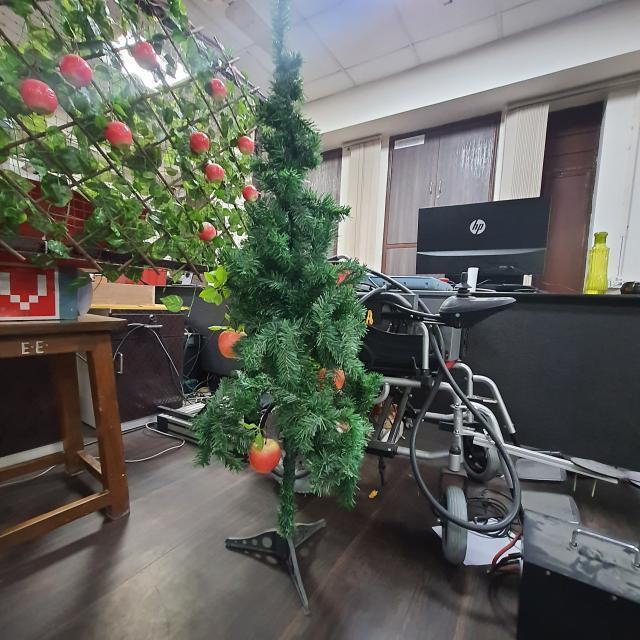tree: (216, 33, 362, 589)
